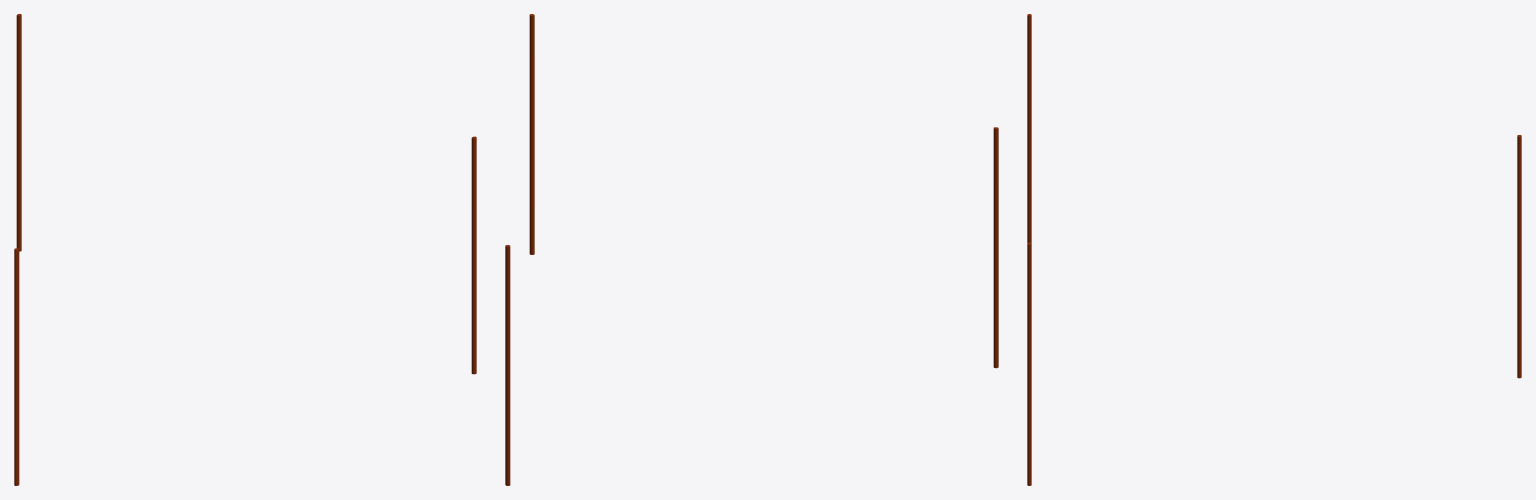
The model's file is bars.glb.
3 views of the same model, side by side, from view 1: azimuth 30°, elevation 25°; view 2: azimuth 150°, elevation 25°; view 3: azimuth 270°, elevation 25° (orthographic). The views are drawn at different scales.
Parts seen in each view (by area): view 1: Cylinder, Cylinder.001, Cylinder.002; view 2: Cylinder.001, Cylinder, Cylinder.002; view 3: Cylinder, Cylinder.002, Cylinder.001.
Boxes of the visible parts, left/top/right/bottom form: Cylinder: left=471, top=136, right=476, bottom=374; Cylinder.001: left=14, top=248, right=19, bottom=485; Cylinder.002: left=16, top=14, right=21, bottom=251; Cylinder.001: left=993, top=127, right=998, bottom=368; Cylinder: left=529, top=14, right=534, bottom=254; Cylinder.002: left=505, top=245, right=510, bottom=485; Cylinder: left=1027, top=242, right=1031, bottom=485; Cylinder.002: left=1517, top=135, right=1521, bottom=378; Cylinder.001: left=1027, top=14, right=1031, bottom=242.
Size of the model in its own units: 69.53 by 33.9 by 62.97.
